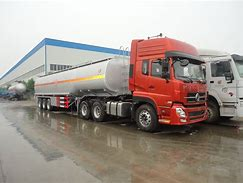oil truck: (30, 31, 214, 131)
